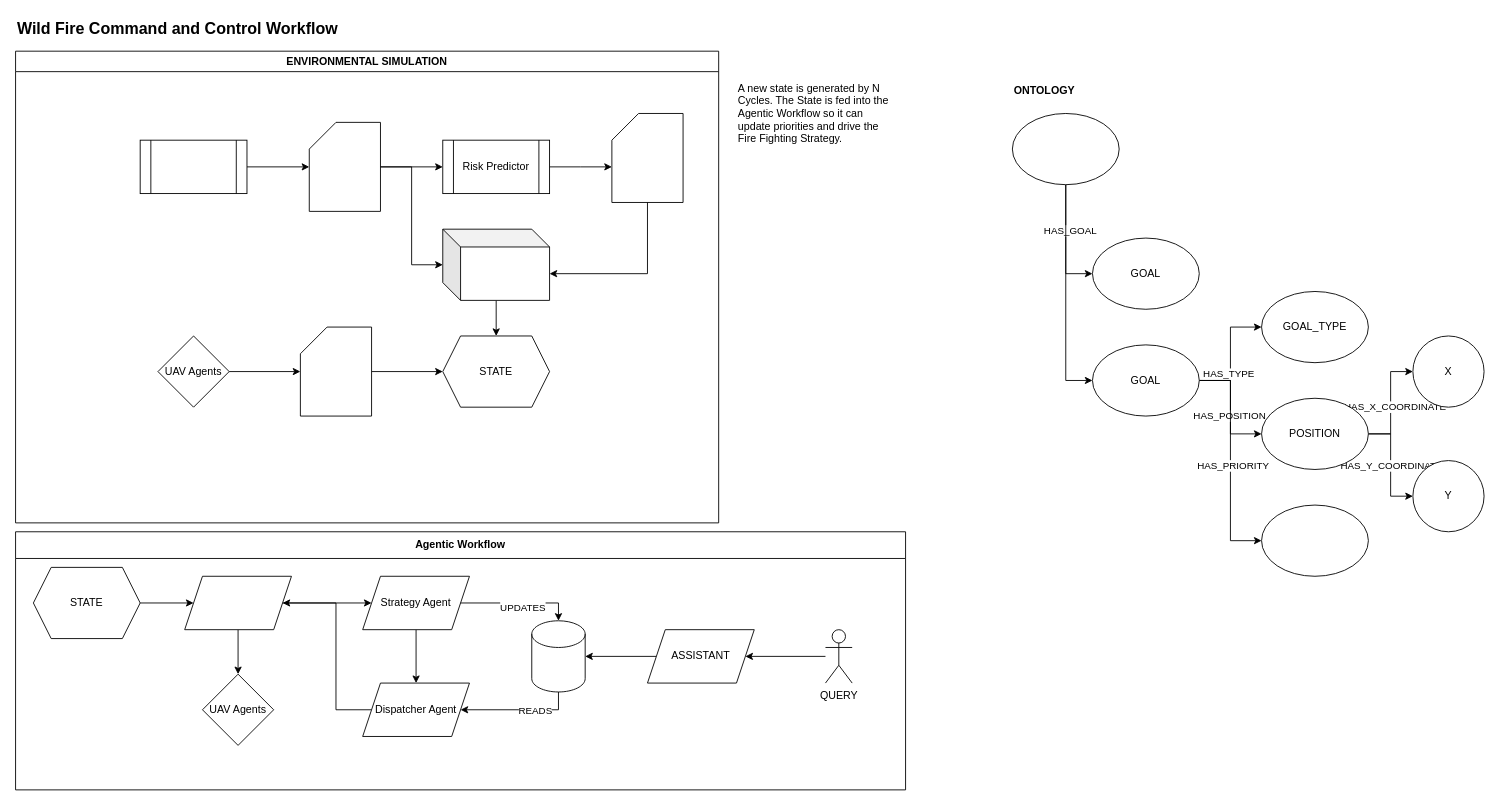
Image size: 1500x805. Some labels were removed from this diagram. Here are the shapes that lost their labels. From the top down, the centre of each, then its label:
At (x=193, y=166): "Fire Simulation".
At (x=344, y=166): "IMAGE".
At (x=647, y=157): "RISK MASK".
At (x=1065, y=149): "LTG".
At (x=496, y=264): "Satellite Data".
At (x=335, y=371): "MESSAGES".
At (x=1314, y=540): "PRIORITY".
At (x=237, y=602): "COMMAND CENTER AGENT".
At (x=558, y=656): "KG".
